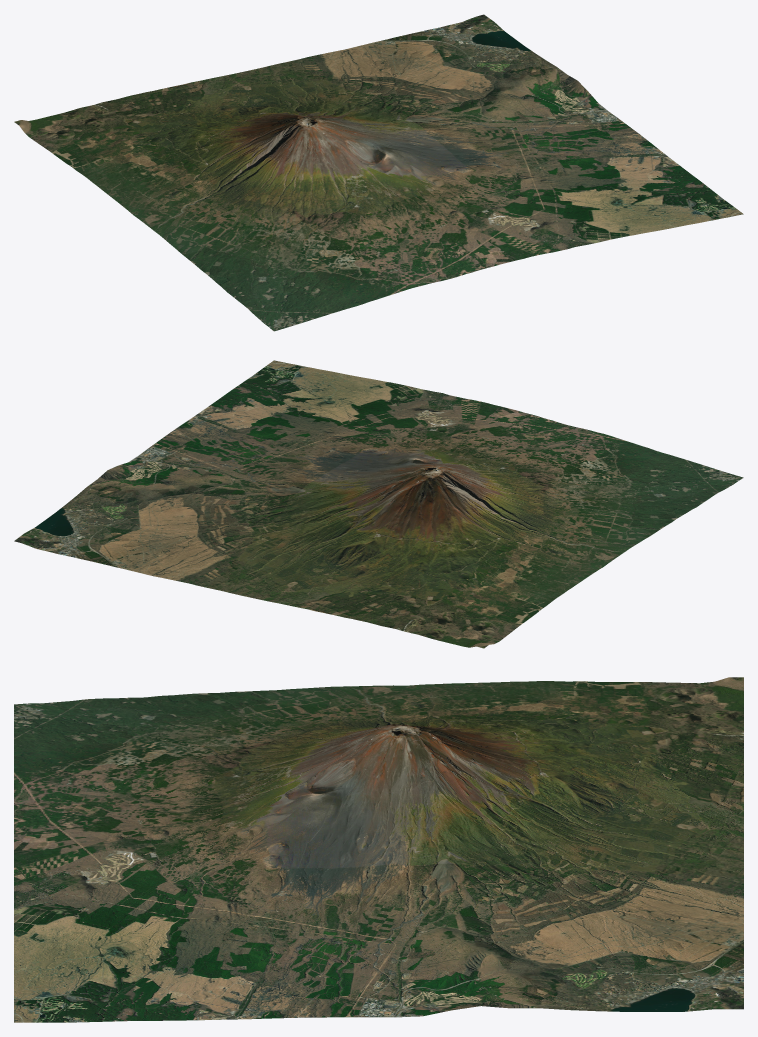
Rendered from mtfuji.glb.
3 renders of one model, top to bottom at view 1: azimuth 30°, elevation 25°; view 2: azimuth 150°, elevation 25°; view 3: azimuth 270°, elevation 25°, orthographic. The views are drawn at different scales.
Visible parts, largest first — view 1: TerrainNode_0; view 2: TerrainNode_0; view 3: TerrainNode_0.
Part boxes in pixels (<box>): TerrainNode_0: <box>14,14,743,331</box>; TerrainNode_0: <box>14,360,743,648</box>; TerrainNode_0: <box>14,677,743,1022</box>.
Bounding box in the file's own units: 12.92 × 1.74 × 12.38.
1 material, 1 textured.
